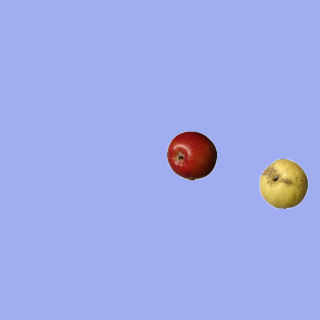Apple Braeburn: (166, 130, 216, 180)
Apple Golden 1: (258, 158, 308, 208)
